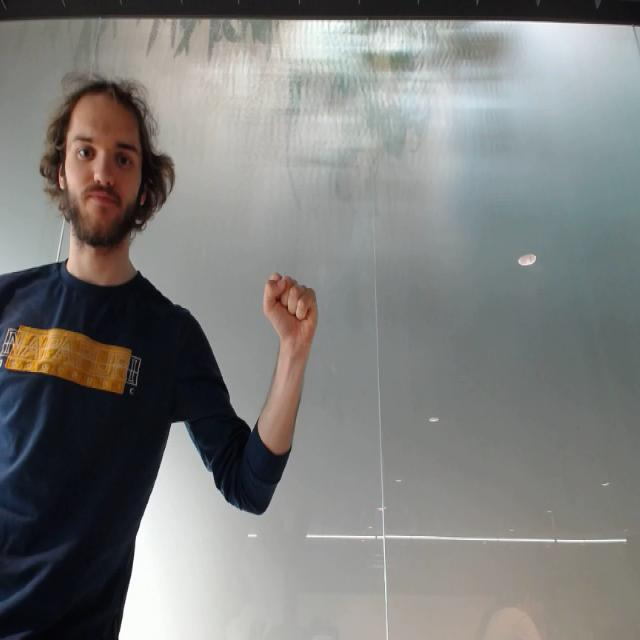stop: (257, 262, 326, 344)
